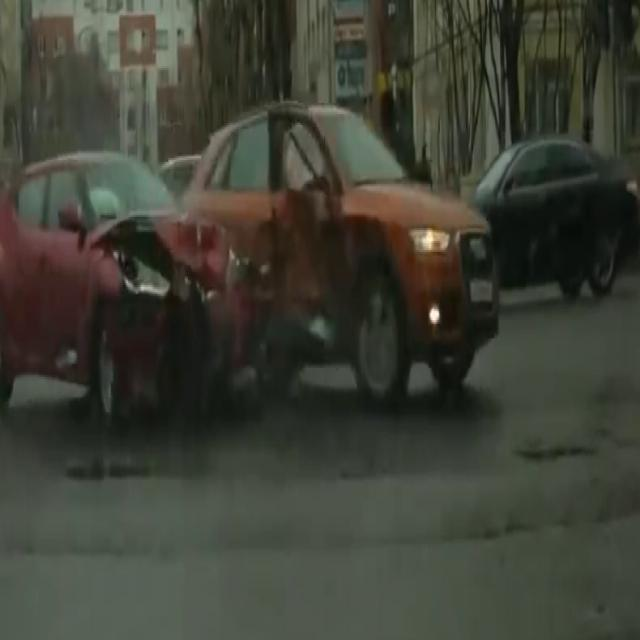accident: (58, 88, 460, 428)
